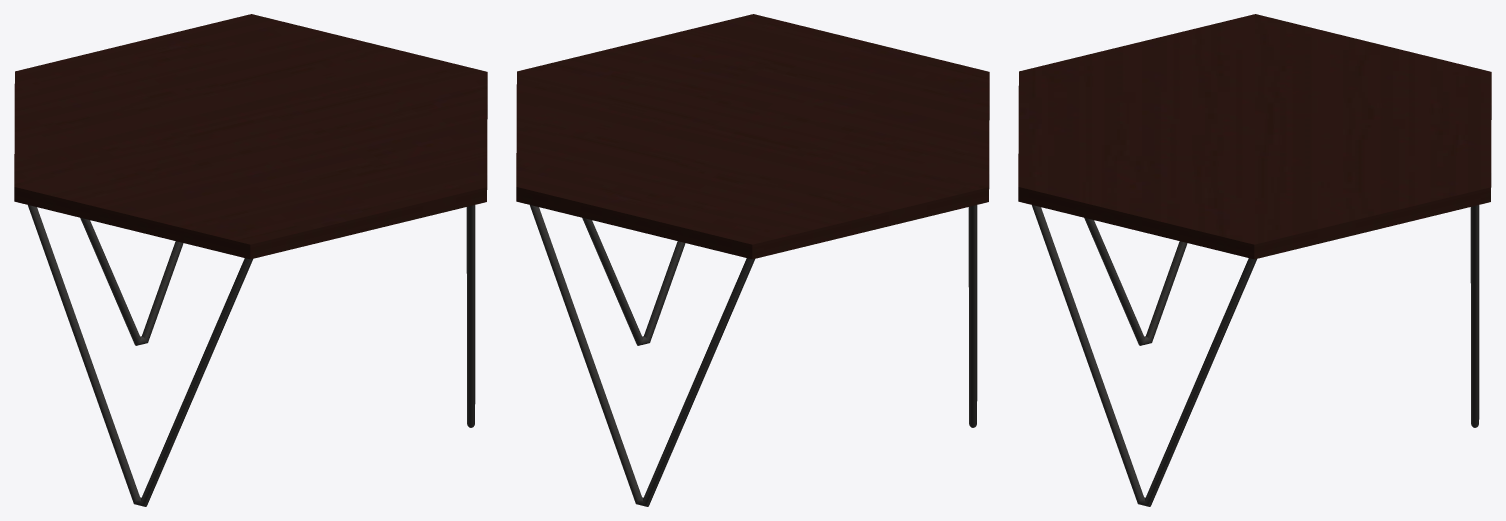
3 views of the same model, side by side, from view 1: azimuth 30°, elevation 25°; view 2: azimuth 150°, elevation 25°; view 3: azimuth 270°, elevation 25° (orthographic).
Parts seen in each view (by area): view 1: C-skp4C4C; view 2: C-skp4C4C; view 3: C-skp4C4C.
Part boxes in pixels (x1,y1,x2,y2): C-skp4C4C: (14,14,487,506); C-skp4C4C: (516,14,989,506); C-skp4C4C: (1018,14,1491,506).
Bounding box in the file's own units: 0.68 × 0.4061 × 0.5896.
2 materials, 1 textured.
